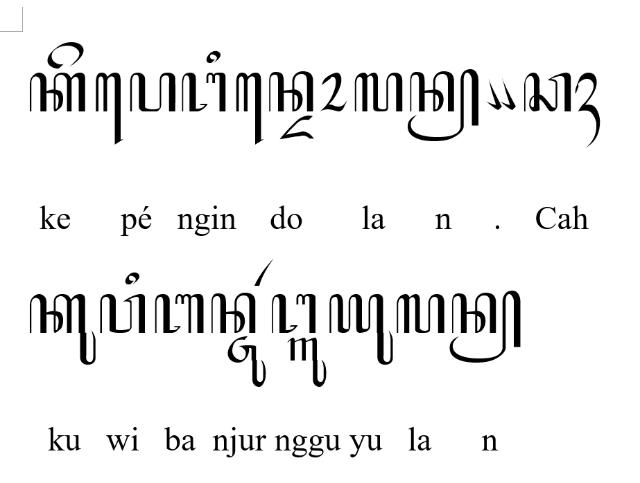-n: (448, 290, 522, 363), (407, 68, 479, 142)
_d: (279, 114, 315, 140)
_h1: (576, 72, 600, 148)
_ju: (228, 336, 266, 388)
_r1: (254, 258, 274, 286)
b: (155, 294, 205, 334)
c: (524, 71, 572, 112)
e: (46, 41, 84, 69)
e1: (236, 72, 264, 145), (96, 72, 122, 145)
gu: (287, 337, 327, 388)
i: (125, 272, 139, 286), (206, 50, 220, 63)
k: (28, 71, 86, 112)
kom: (500, 77, 516, 110), (485, 78, 501, 110)
ku: (29, 293, 96, 366)
l: (354, 72, 404, 112), (396, 295, 446, 335)
n: (268, 71, 314, 112), (210, 294, 256, 334)
nga: (181, 72, 229, 114), (272, 295, 316, 335)
o: (318, 72, 348, 112)
p: (130, 73, 176, 113)
w: (100, 294, 146, 334)
yu: (328, 294, 394, 366)
